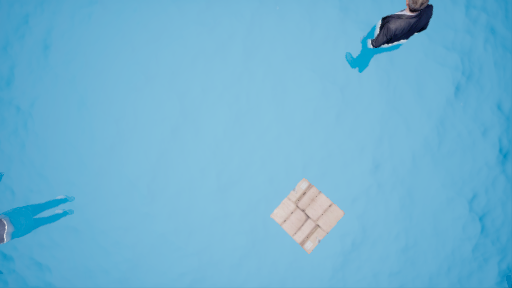person: (354, 1, 430, 76)
